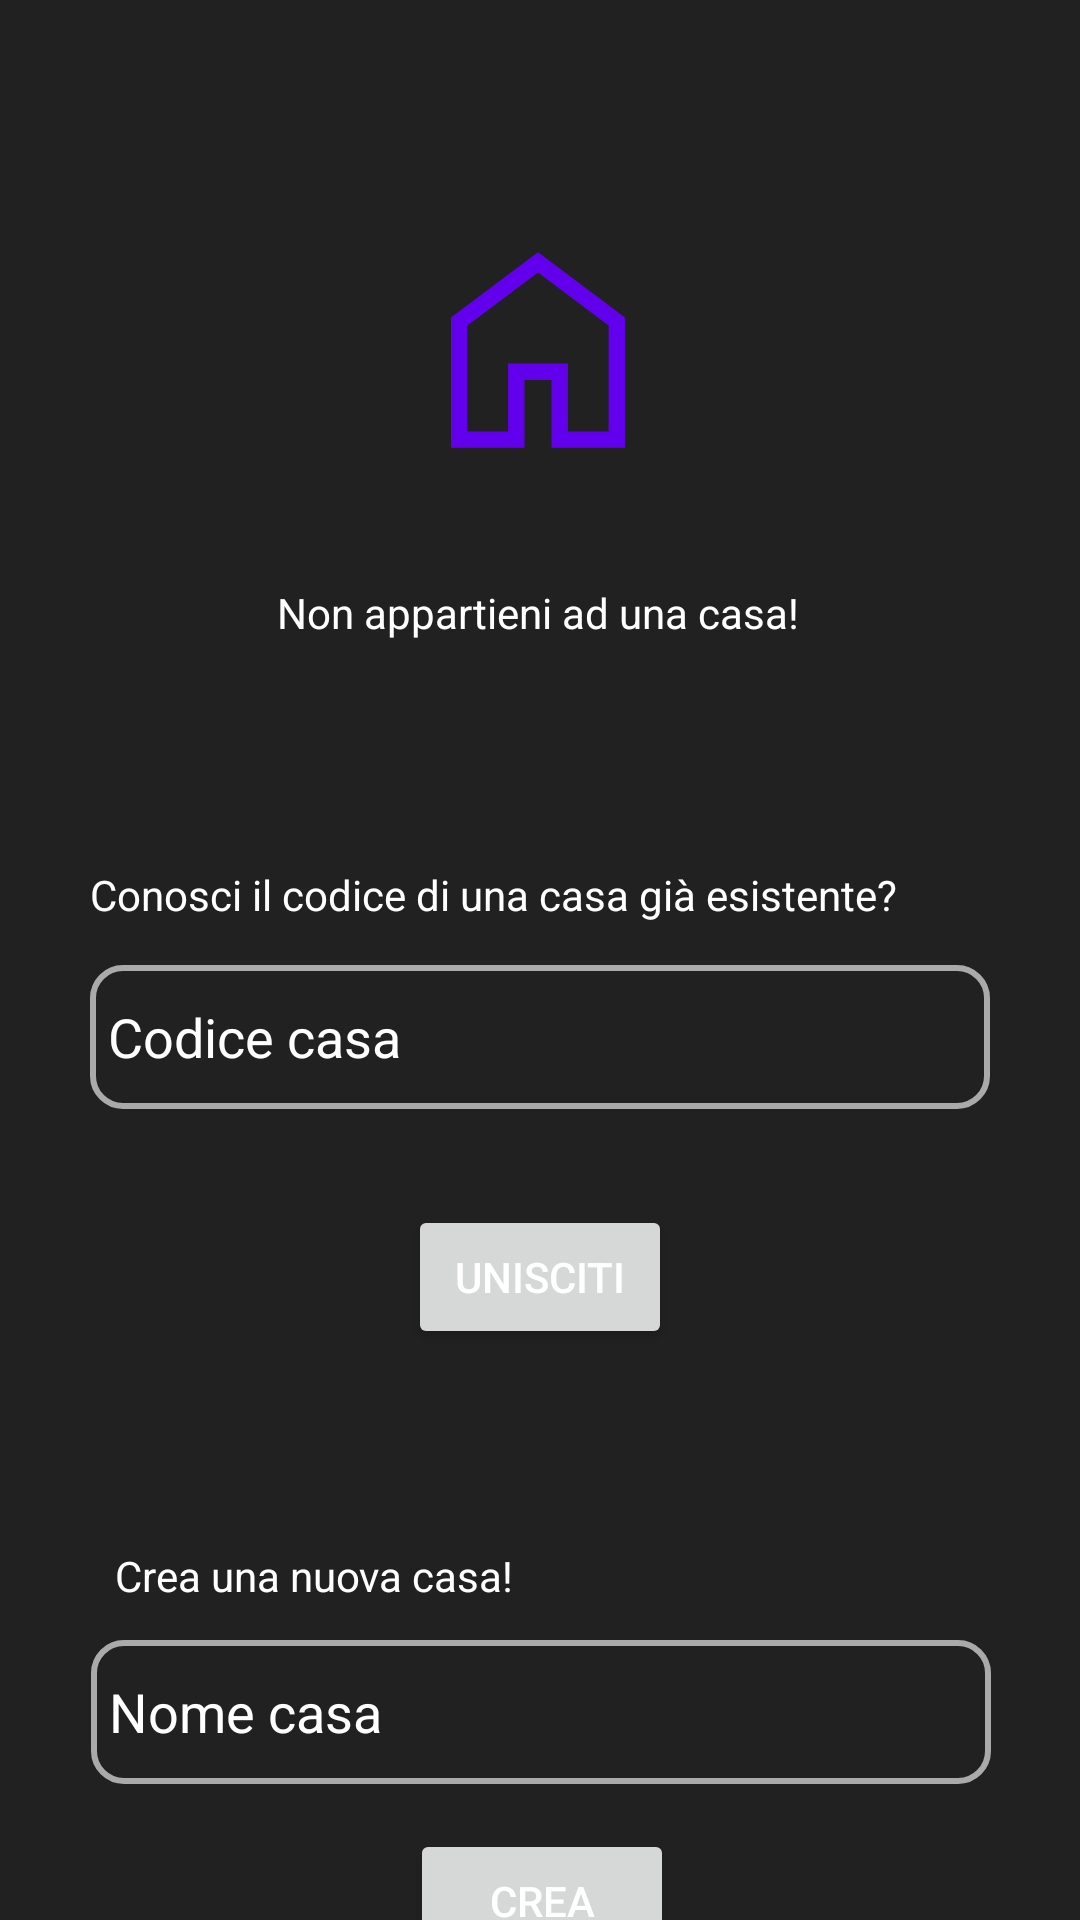

Where icons sit on this 1080w x 1920h app screen, as (x1, y1, x2, y2):
A purple house: (451, 252, 625, 448)
